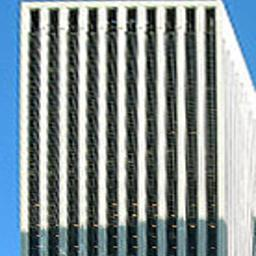building: (20, 1, 223, 256)
